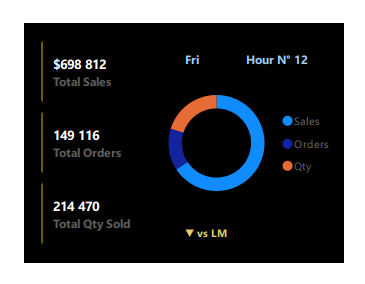

What the dashboard file says about the page in this screenshot:
{"tool":"powerbi","page":{"name":"Tool tips_Day_Hour","canvas":[320,240],"ordinal":2},"visuals":[{"type":"cardVisual","fields":{"Data":["Transactions.Total Sales","Transactions.Total Orders","Transactions.Total Qty Sold"]},"box":[0,0,160,240],"z":0},{"type":"donutChart","fields":{"Y":["Transactions.Total Sales","Transactions.Total Orders","Transactions.Total Qty Sold"]},"box":[122,55,198,130],"z":1000},{"type":"cardVisual","fields":{"Data":["Transactions.Label for hours"]},"box":[192.6,9.9,127.2,50.6],"z":2000},{"type":"cardVisual","fields":{"Data":["Transactions.MoM growth & Diff Sales"]},"box":[132,183,188,50],"z":3000},{"type":"cardVisual","fields":{"Data":["Min(Date Table.Day Name)"]},"box":[132.1,9.9,84,50.6],"z":4000}]}

Visuals, with their boxes on the page's 320x240 design canvas (x1, y1, x2, y2). These are canvas units, not pixel positions in the 365x284 screenshot, which may show the page scaled, cropped or inside an application window:
cardVisual - Transactions.Total Sales x Transactions.Total Orders: [0,0,160,240]
donutChart - Transactions.Total Sales x Transactions.Total Orders: [122,55,320,185]
cardVisual - Transactions.Label for hours: [193,10,320,60]
cardVisual - Transactions.MoM growth & Diff Sales: [132,183,320,233]
cardVisual - Min(Date Table.Day Name): [132,10,216,60]
